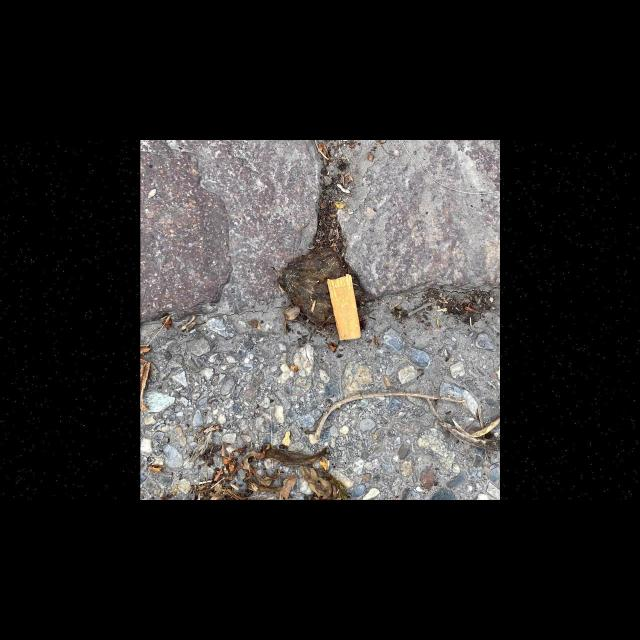cigarette: (326, 274, 362, 342)
